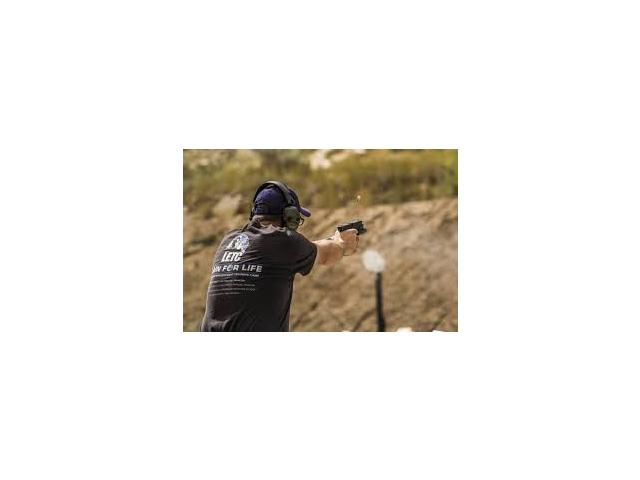pistol: (337, 220, 369, 256)
